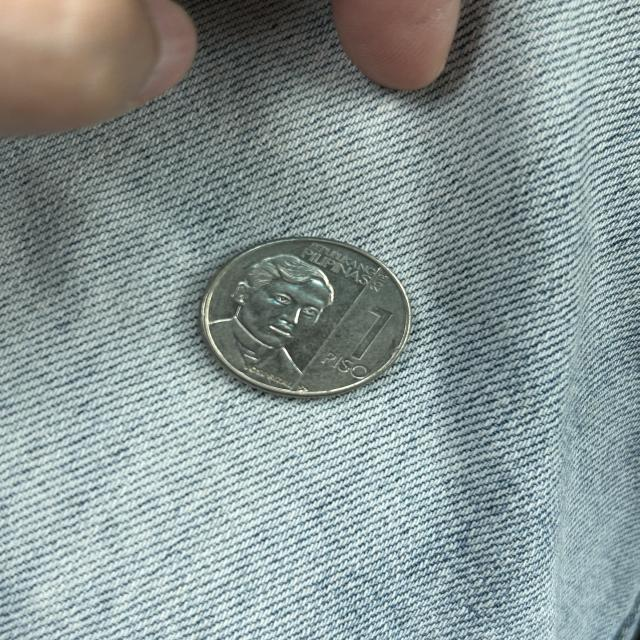1_New_Front: (322, 300, 398, 378)
